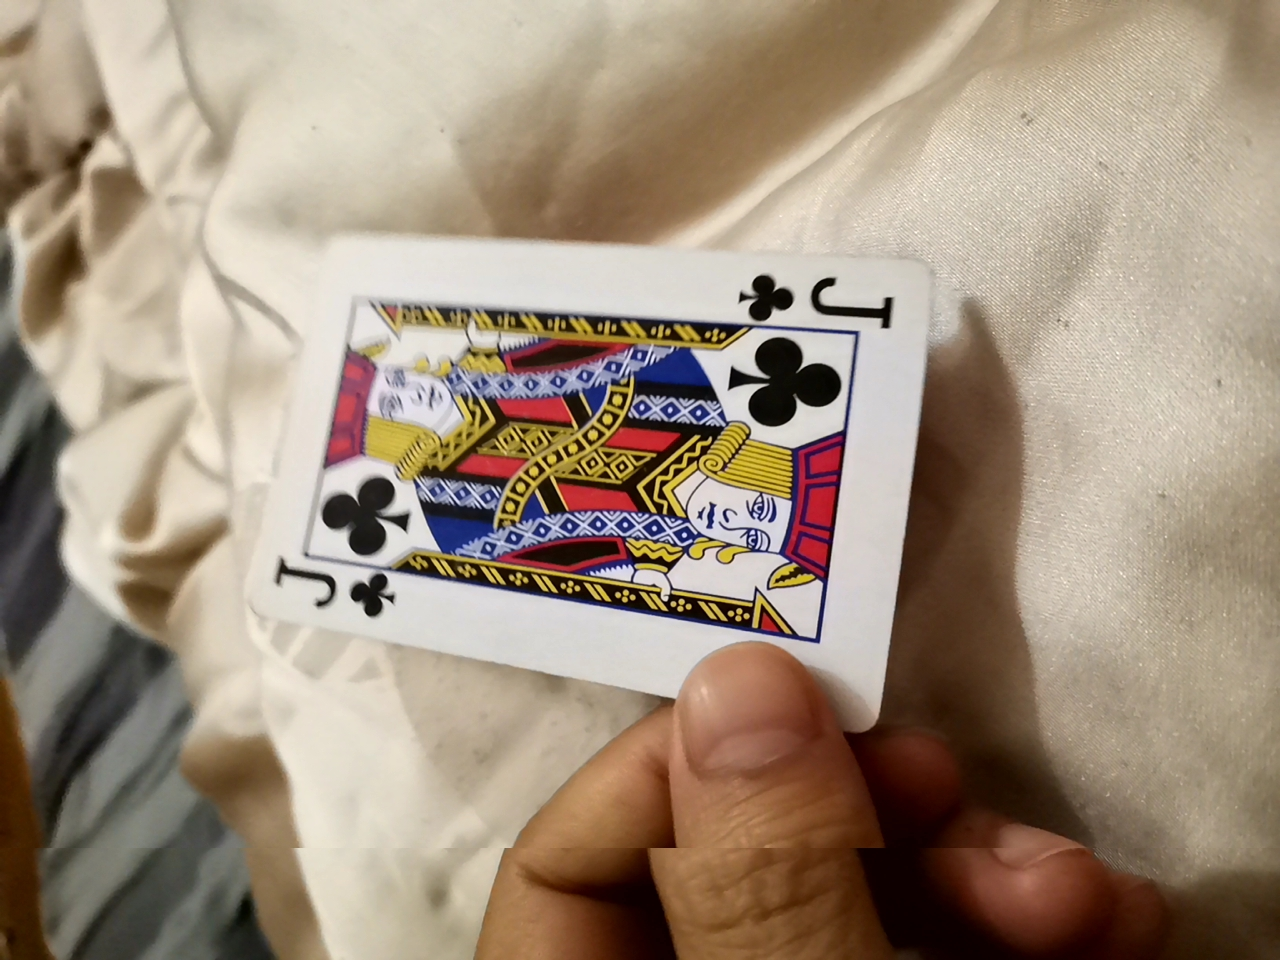mh j: (264, 235, 934, 716)
